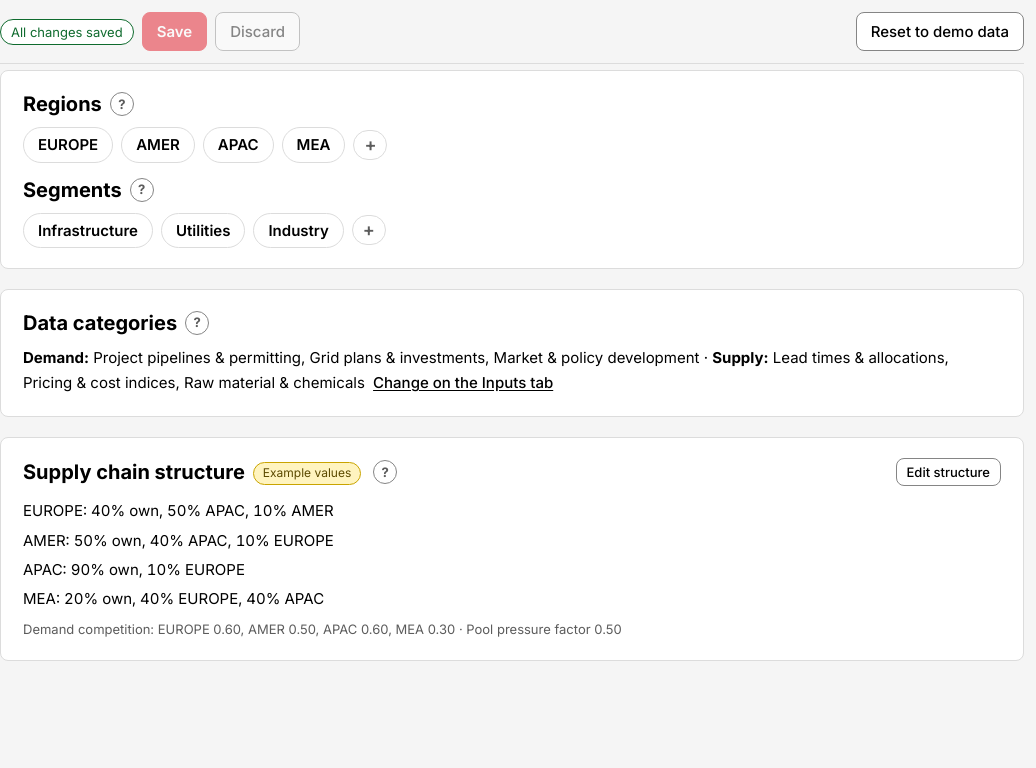
Scenario: SetupTab › shows regions and segments as plain chips and short help
The width and height of the screenshot is (1036, 768).
Check: the list named "Regions" is shown, box [23, 127, 387, 163]
Check: the button "EUROPE" is shown, box [23, 127, 113, 163]
Click the button named "Help: Regions". click: point(122, 104)
box: [110, 92, 134, 116]
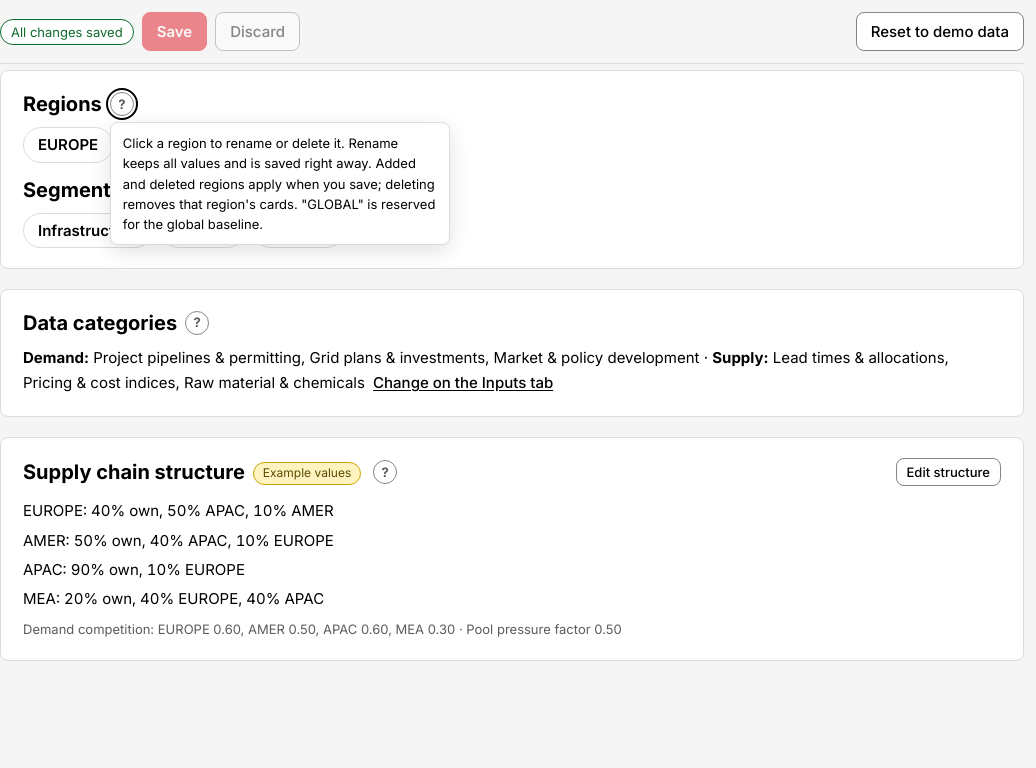
Check: the message shows "Rename keeps all values", box [123, 135, 435, 232]
